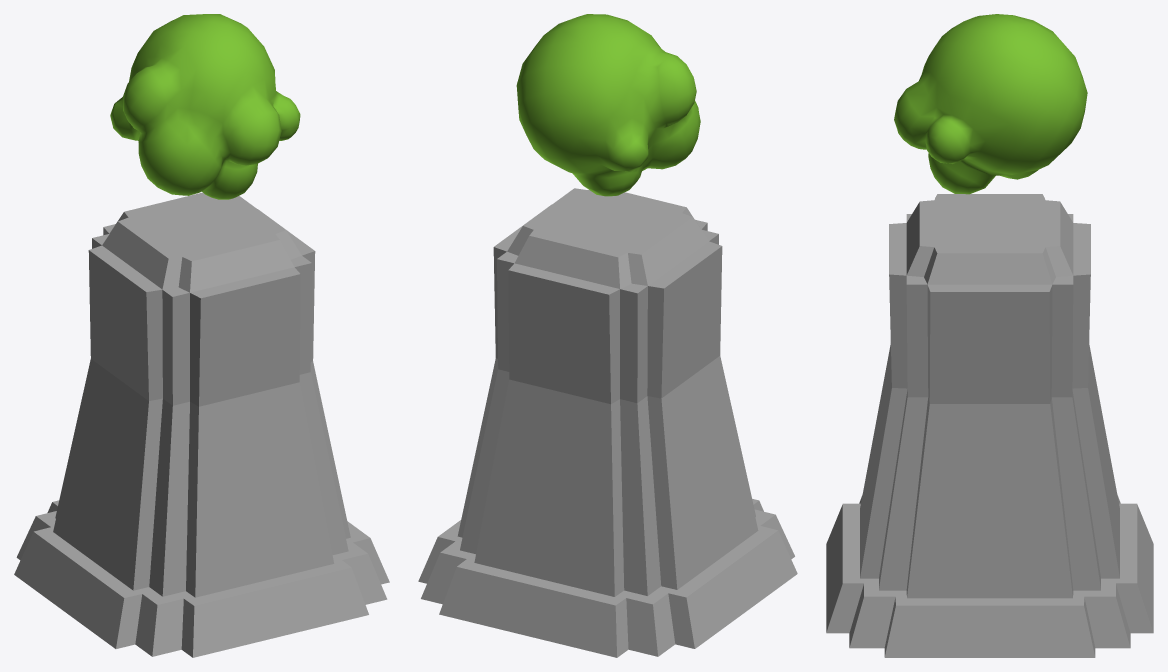
The model's file is SM_Tower_Plague.fbx.
3 views of the same model, side by side, from view 1: azimuth 30°, elevation 25°; view 2: azimuth 150°, elevation 25°; view 3: azimuth 270°, elevation 25° (orthographic). The views are drawn at different scales.
Visible parts, largest first — view 1: Crystal_Plague, Tower_Plague; view 2: Crystal_Plague, Tower_Plague; view 3: Crystal_Plague, Tower_Plague.
Part boxes in pixels (left/top/right/bottom): Crystal_Plague: left=14, top=192, right=389, bottom=657; Tower_Plague: left=110, top=14, right=300, bottom=199; Crystal_Plague: left=418, top=188, right=797, bottom=657; Tower_Plague: left=516, top=14, right=700, bottom=196; Crystal_Plague: left=826, top=194, right=1153, bottom=657; Tower_Plague: left=894, top=14, right=1087, bottom=194.
Bounding box in the file's own units: 117 × 226 × 117.
